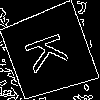K: (24, 27, 79, 75)
